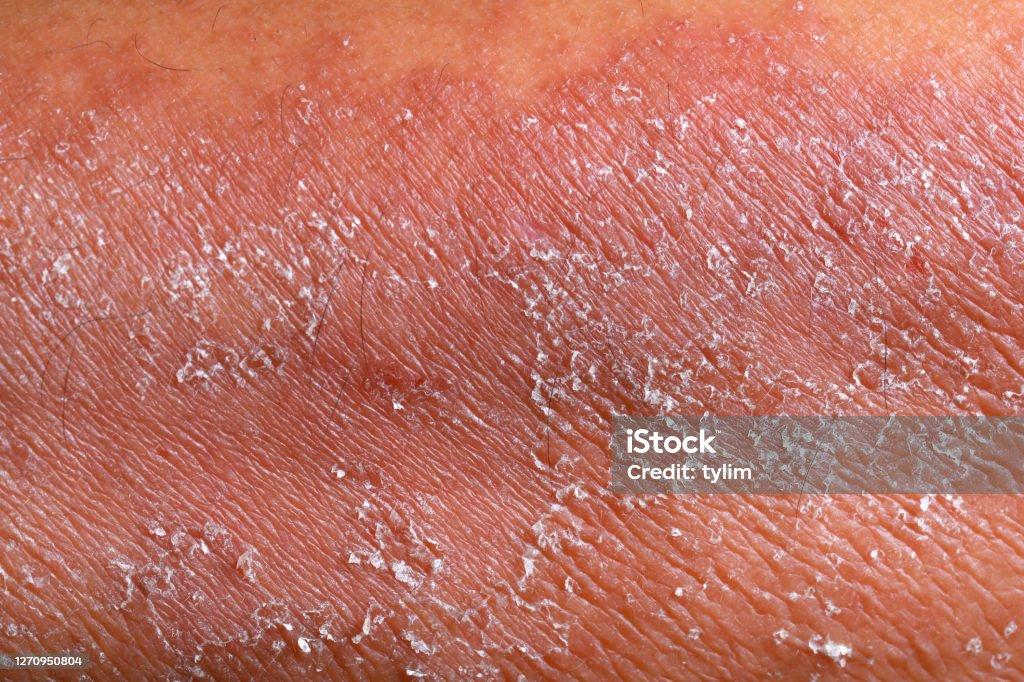Dry-Skin: (448, 180, 802, 495), (22, 445, 365, 660), (52, 107, 332, 312), (455, 552, 782, 682), (572, 0, 793, 175), (338, 0, 530, 157), (183, 422, 347, 595), (860, 142, 937, 440), (890, 57, 1012, 242), (107, 27, 218, 162), (870, 490, 935, 682)
